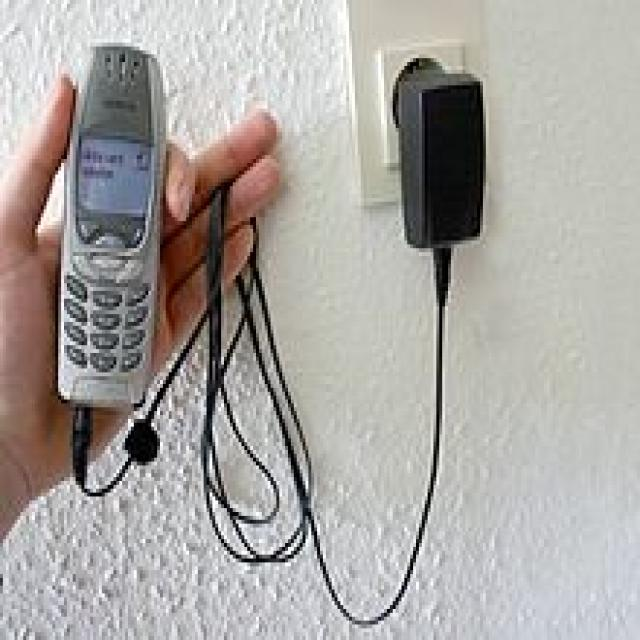battery charger: (360, 41, 521, 333), (58, 404, 130, 508)
phone: (54, 44, 181, 414)
